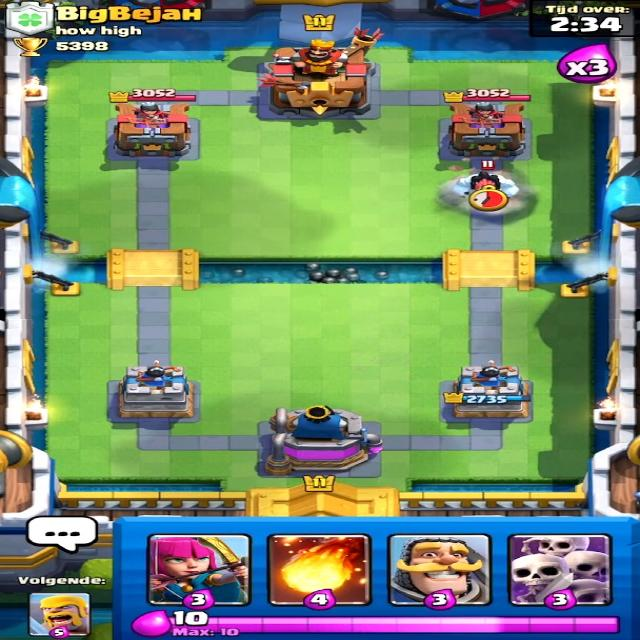Fireball_Card: (273, 532, 367, 604)
